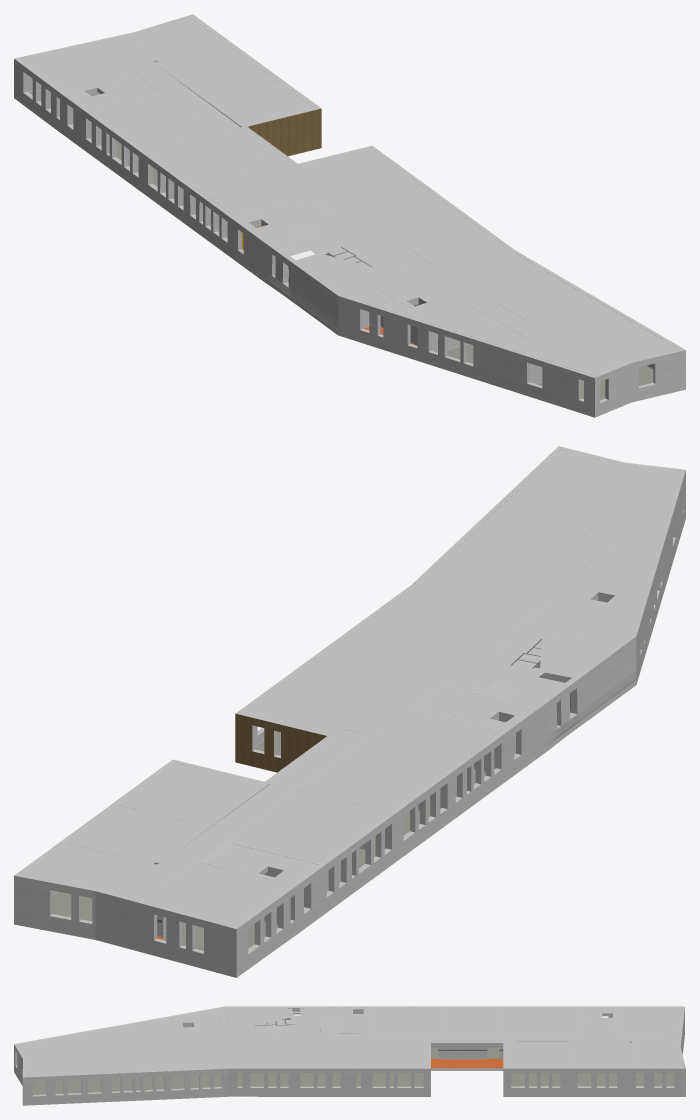
The model's file is 3_floor_aisle_b_sized.glb.
3 views of the same model, one above another, from view 1: azimuth 30°, elevation 25°; view 2: azimuth 150°, elevation 25°; view 3: azimuth 270°, elevation 25° (orthographic). The views are drawn at different scales.
Visible parts, largest first — view 1: Cube_121, Cube_122, Cube_123; view 2: Cube_121, Cube_122, Cube_123; view 3: Cube_121, Cube_122, Cube_123.
Part boxes in pixels (x1=…): Cube_121: x1=21, y1=17, x2=678, y2=376; Cube_122: x1=14, y1=14, x2=685, y2=413; Cube_123: x1=14, y1=90, x2=685, y2=417; Cube_121: x1=23, y1=449, x2=680, y2=925; Cube_122: x1=14, y1=446, x2=685, y2=972; Cube_123: x1=14, y1=514, x2=685, y2=977; Cube_121: x1=15, y1=1007, x2=681, y2=1075; Cube_122: x1=14, y1=1006, x2=685, y2=1102; Cube_123: x1=14, y1=1033, x2=685, y2=1105.
Size of the model in its own units: 18.91 by 3.51 by 75.11.
Materials: 15 (8 with a texture image).
